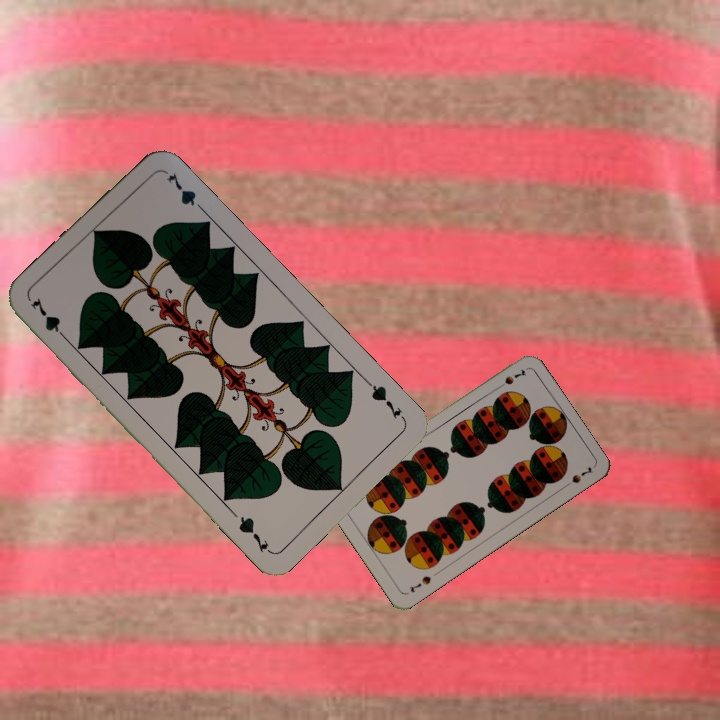G7: (26, 294, 72, 345), (362, 377, 408, 424)
S7: (492, 365, 529, 392), (406, 571, 434, 595)
